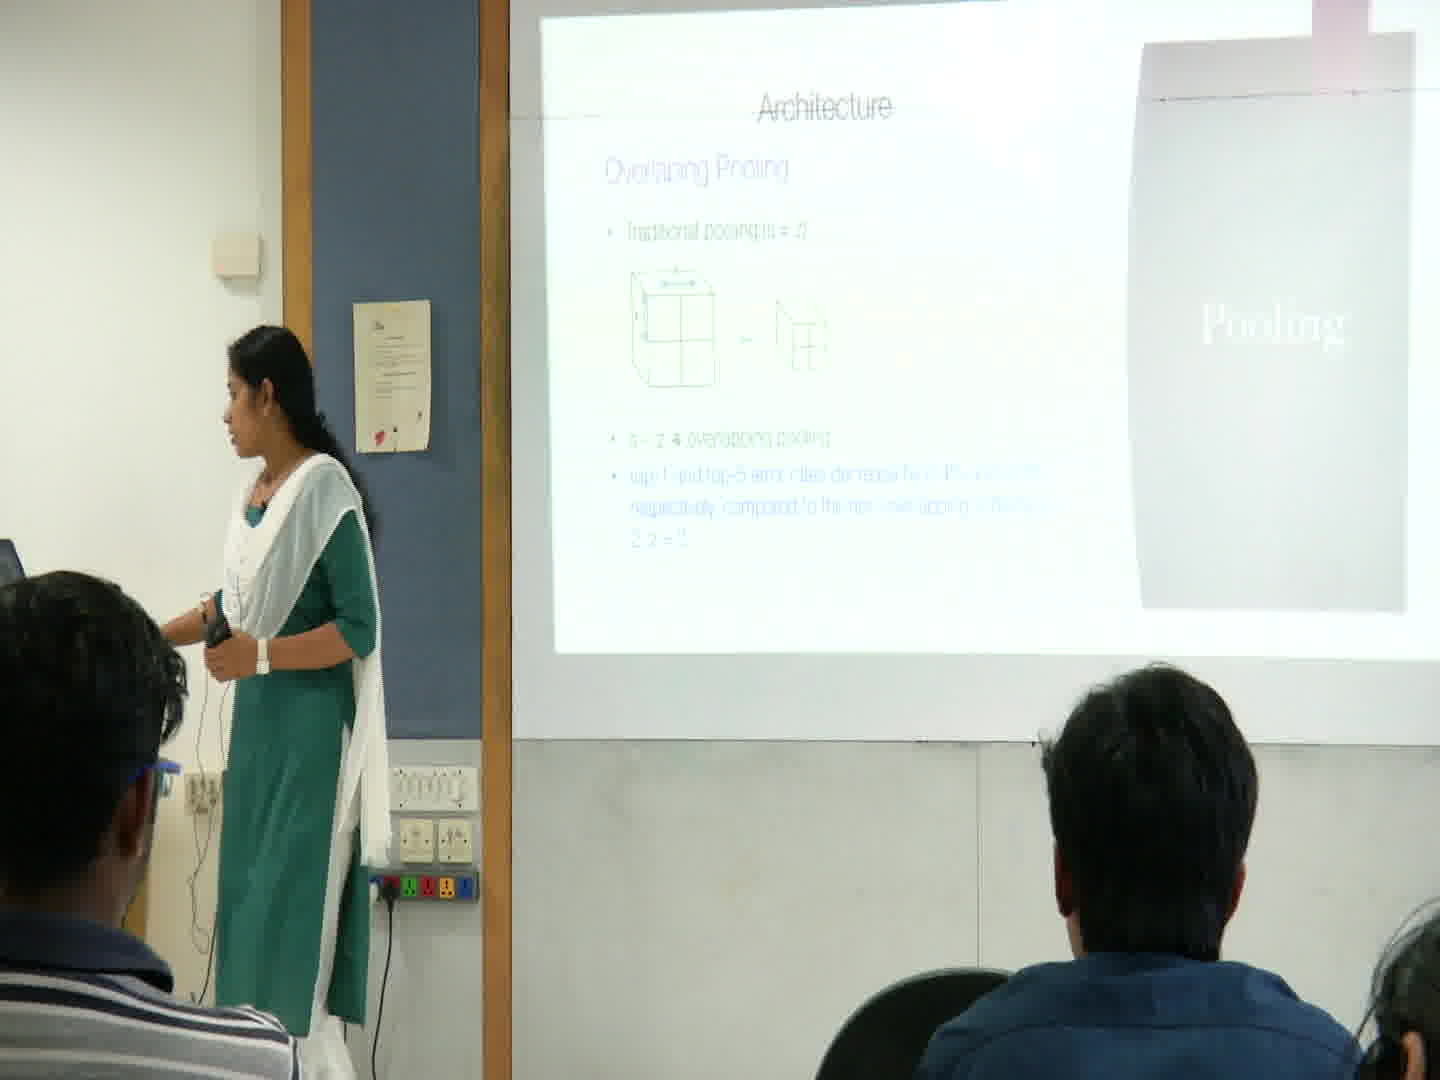fig: (615, 254, 838, 410)
